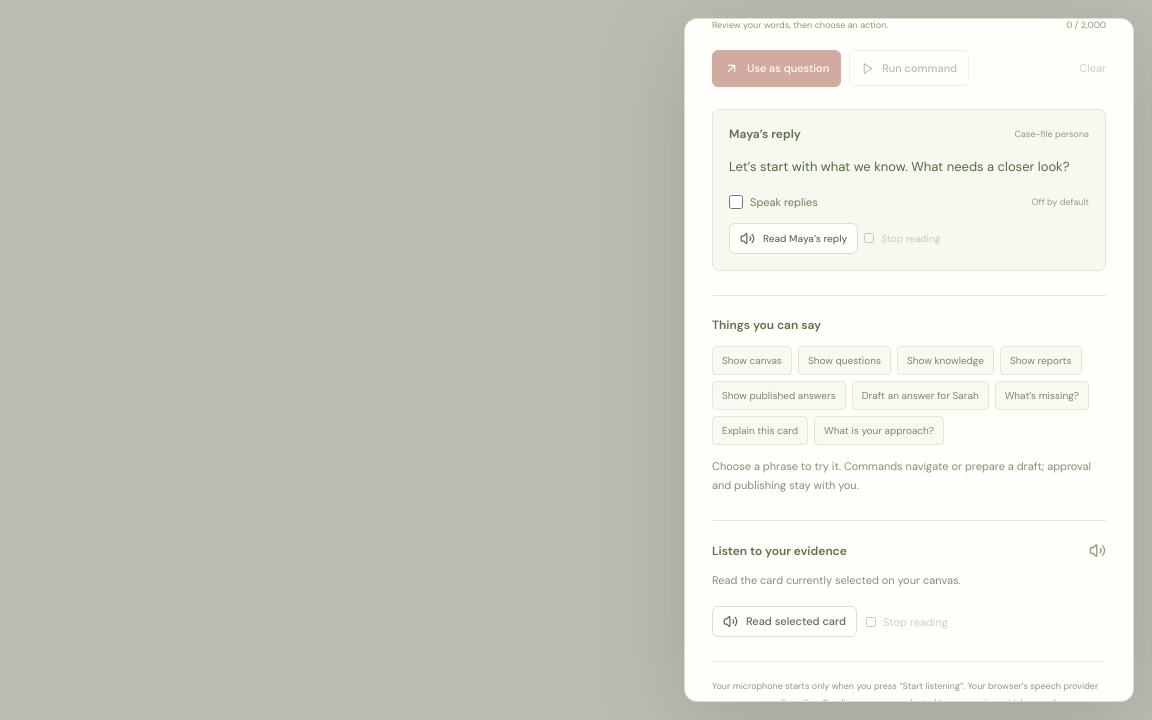
Test: Voice companion with simulated browser speech APIs › shows successful contextual replies, clears the command and keeps the conversation open
(page scrolled)
Step 1. Click the button "Show questions" → [844, 360], box [798,346,891,375]
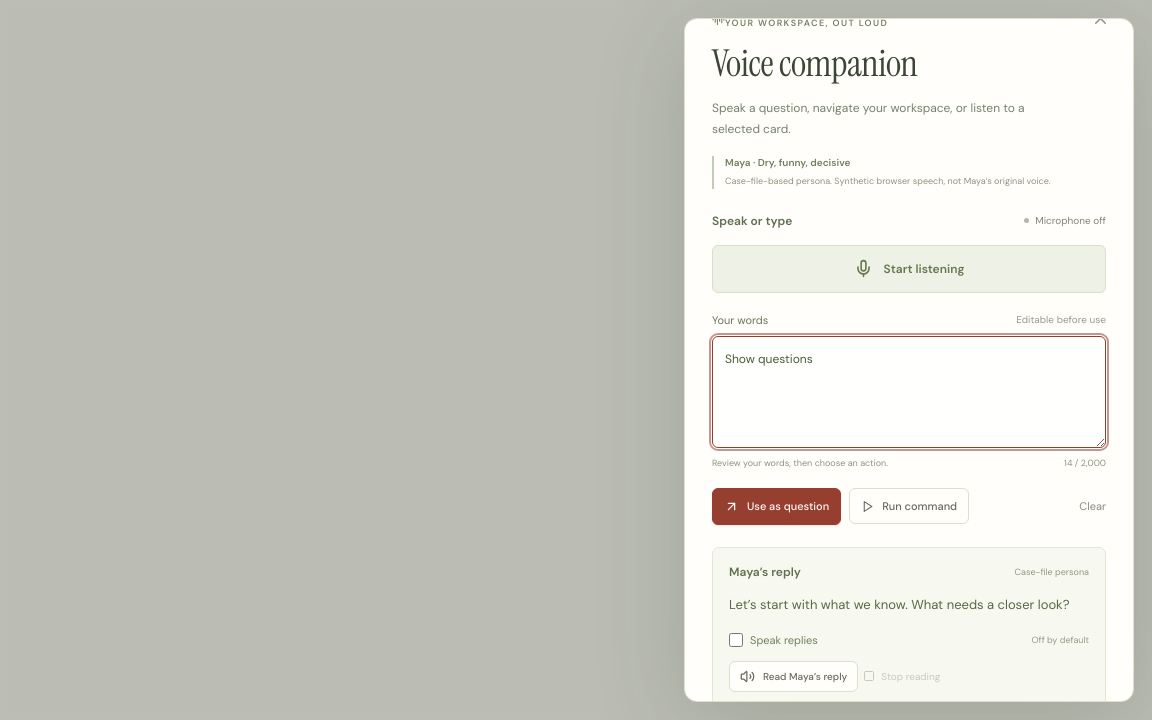
Step 2. Click the button "Run command" → [909, 506], box [849,488,969,524]
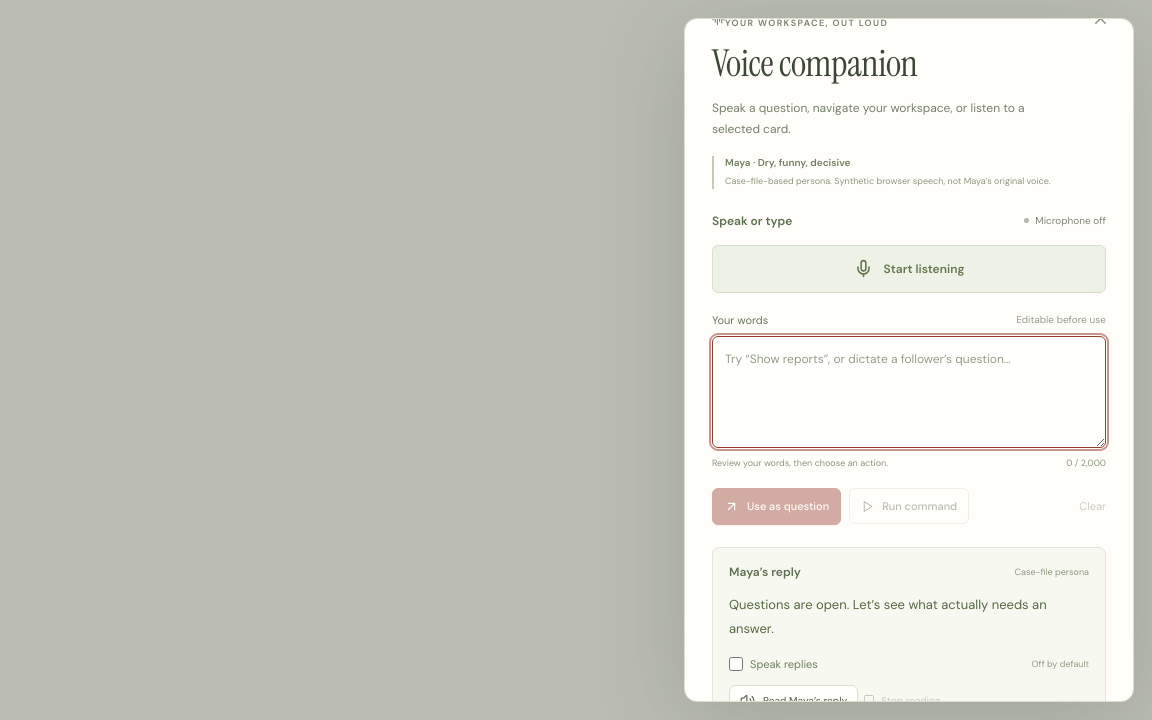
Now the message "Questions are open. Let’s see what actually needs an answer." is shown, box [729,593,1089,641]
Now the text box is empty, box [712,336,1106,448]
